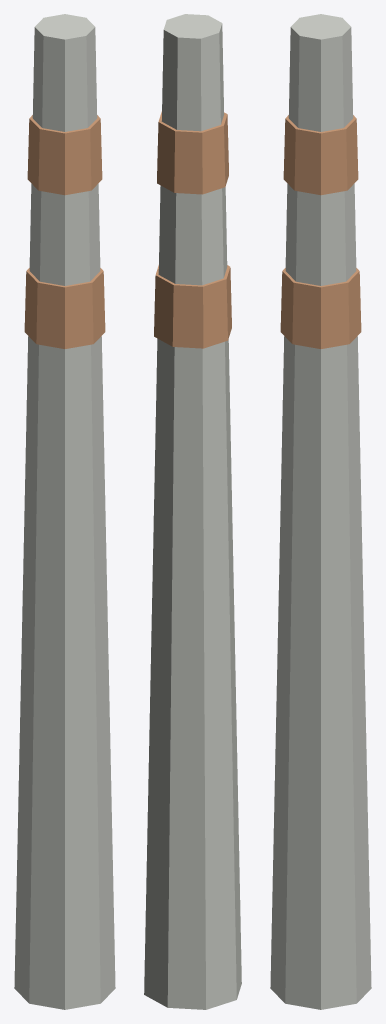
Rendered from factory-stack.glb.
3 renders of one model, left to right at view 1: azimuth 90°, elevation 25°; view 2: azimuth 150°, elevation 25°; view 3: azimuth 270°, elevation 25°, orthographic.
Bounding box in the file's own units: 6 × 63 × 6.
